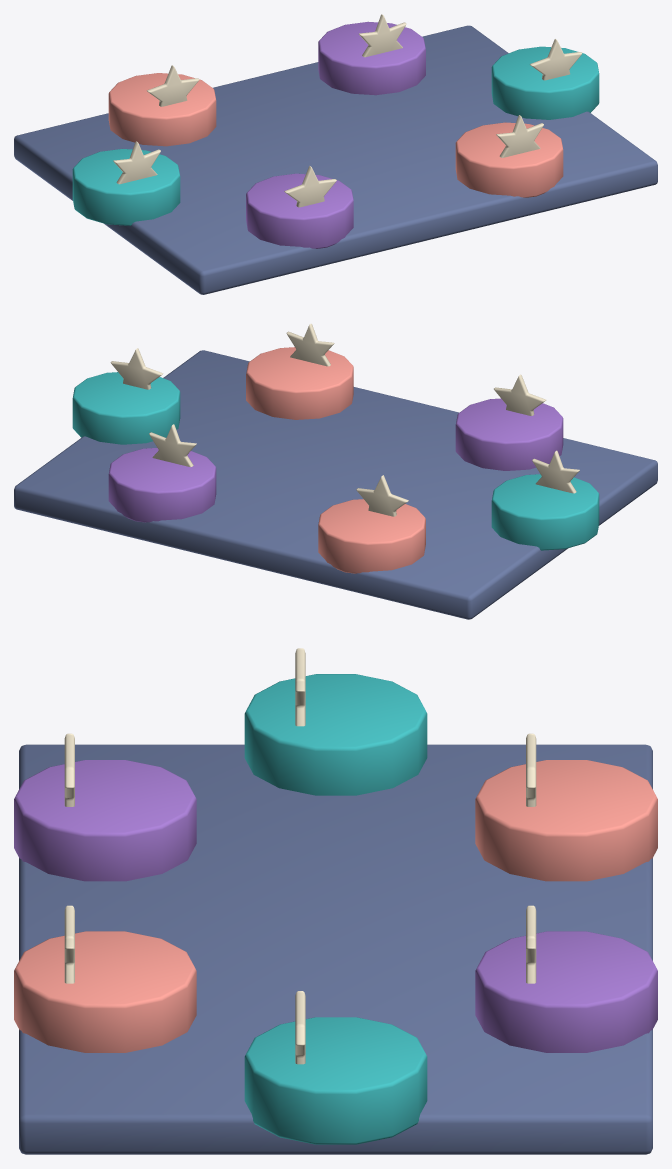
Rendered from r056_dungeon_puzzle_room_overall_puzzle_room.glb.
The picture shows the model from 3 angles, top to bottom: view 1: azimuth 30°, elevation 25°; view 2: azimuth 150°, elevation 25°; view 3: azimuth 270°, elevation 25°; orthographic projection. The views are drawn at different scales.
Parts seen in each view (by area): view 1: r056_dungeon_puzzle_room_overall_puzzle_room.001; view 2: r056_dungeon_puzzle_room_overall_puzzle_room.001; view 3: r056_dungeon_puzzle_room_overall_puzzle_room.001.
Boxes of the visible parts, box(x1,y1,x2,y2) form: r056_dungeon_puzzle_room_overall_puzzle_room.001: box(14, 14, 657, 294); r056_dungeon_puzzle_room_overall_puzzle_room.001: box(14, 323, 657, 619); r056_dungeon_puzzle_room_overall_puzzle_room.001: box(14, 648, 657, 1154).
Bounding box in the file's own units: 7.8 × 1.31 × 5.08.
